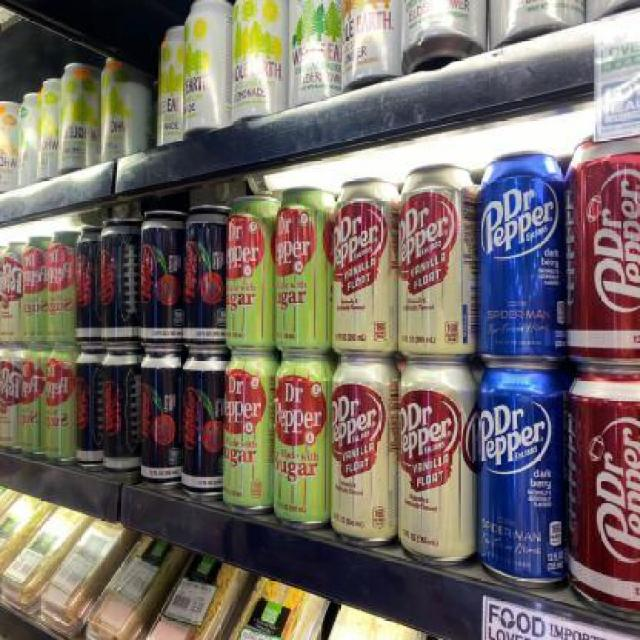Drinks: (477, 364, 568, 591), (566, 363, 640, 622), (477, 150, 565, 365), (566, 133, 640, 365), (398, 358, 476, 570), (398, 164, 476, 361), (333, 356, 398, 549), (332, 178, 398, 354), (276, 350, 332, 530), (274, 186, 332, 352), (223, 352, 275, 516), (227, 195, 275, 354), (182, 348, 224, 501), (140, 208, 185, 348), (140, 345, 182, 490), (185, 205, 226, 350), (99, 218, 141, 347), (101, 346, 139, 480), (46, 346, 77, 466), (48, 231, 77, 346), (76, 347, 102, 471), (77, 226, 100, 346), (22, 347, 46, 458), (24, 237, 48, 346), (0, 242, 25, 344), (0, 344, 22, 453)
